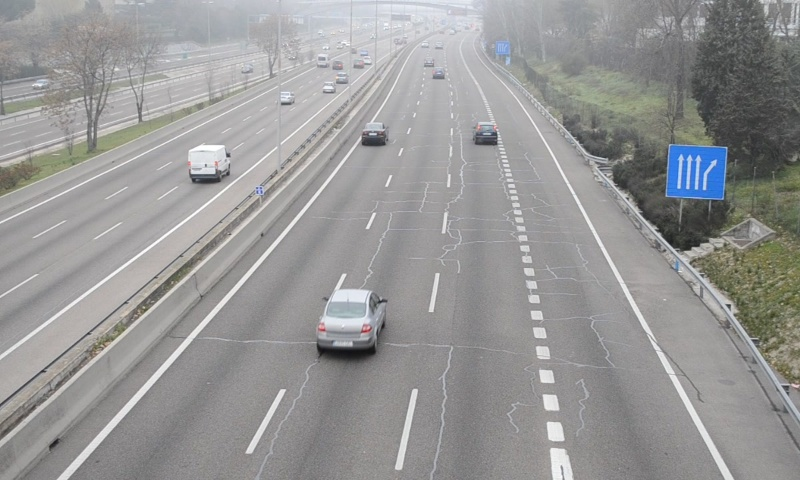car: (316, 288, 385, 354), (473, 122, 498, 145), (361, 122, 387, 144)
